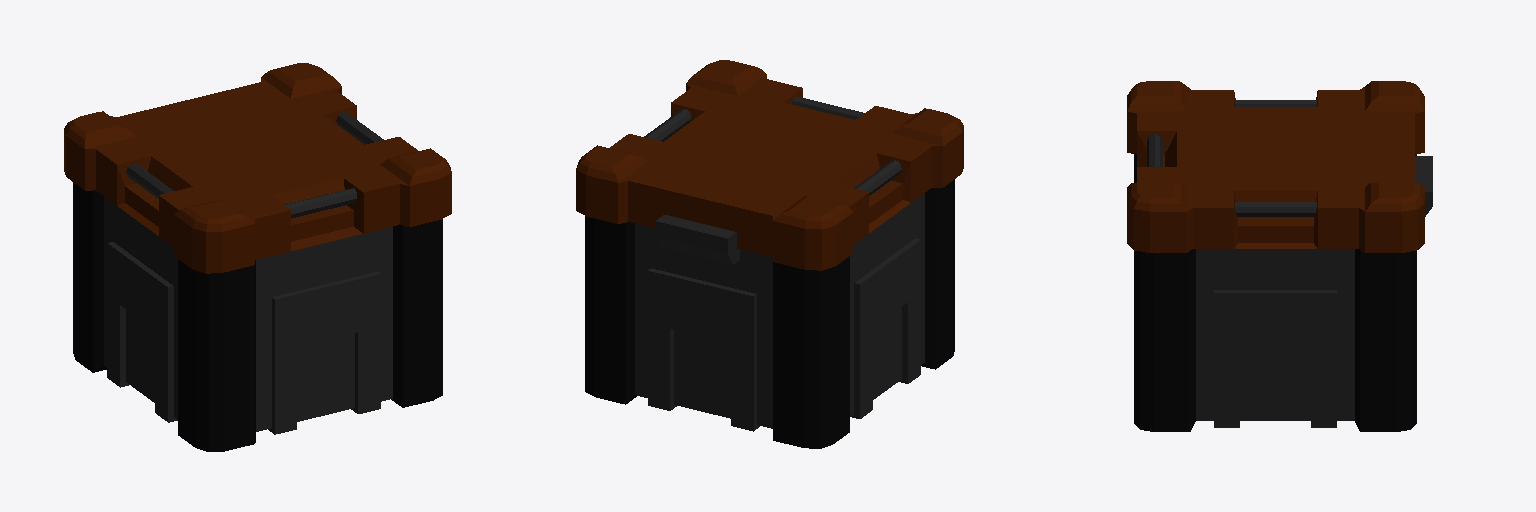
The model's file is Lootbox.obj.
3 views of the same model, side by side, from view 1: azimuth 30°, elevation 25°; view 2: azimuth 150°, elevation 25°; view 3: azimuth 270°, elevation 25° (orthographic).
Parts seen in each view (by area): view 1: Lootbox; view 2: Lootbox; view 3: Lootbox.
Boxes of the visible parts, <box> form: Lootbox: <box>64,63,451,451</box>; Lootbox: <box>576,60,963,448</box>; Lootbox: <box>1127,81,1432,431</box>.
Size of the model in its own units: 0.5919 by 0.5121 by 0.6081.